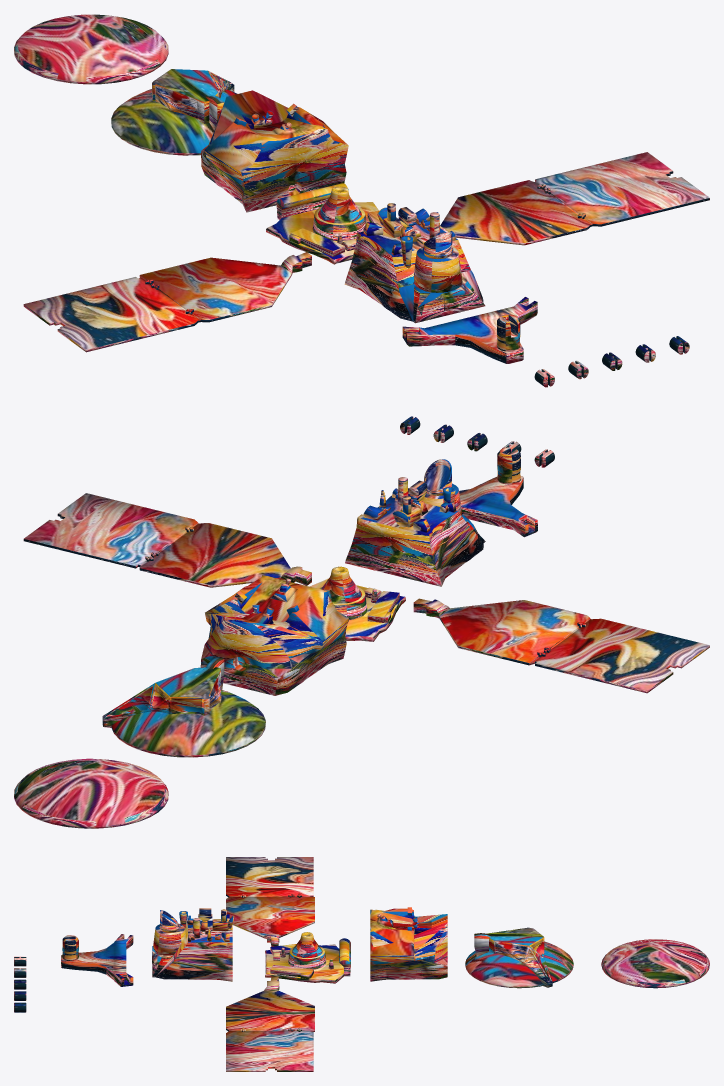
File: nasa_mars-reconnaissance-orbiter.glb
3 renders of one model, top to bottom at view 1: azimuth 30°, elevation 25°; view 2: azimuth 150°, elevation 25°; view 3: azimuth 270°, elevation 25°, orthographic. The views are drawn at different scales.
Visible parts, largest first — view 1: A; view 2: A; view 3: A.
Boxes of the visible parts, <box> form: A: <box>14,14,709,387</box>; A: <box>14,416,709,828</box>; A: <box>14,857,709,1071</box>.
Bounding box in the file's own units: 1.45 × 0.1725 × 2.
Materials: 1 (1 with a texture image).
